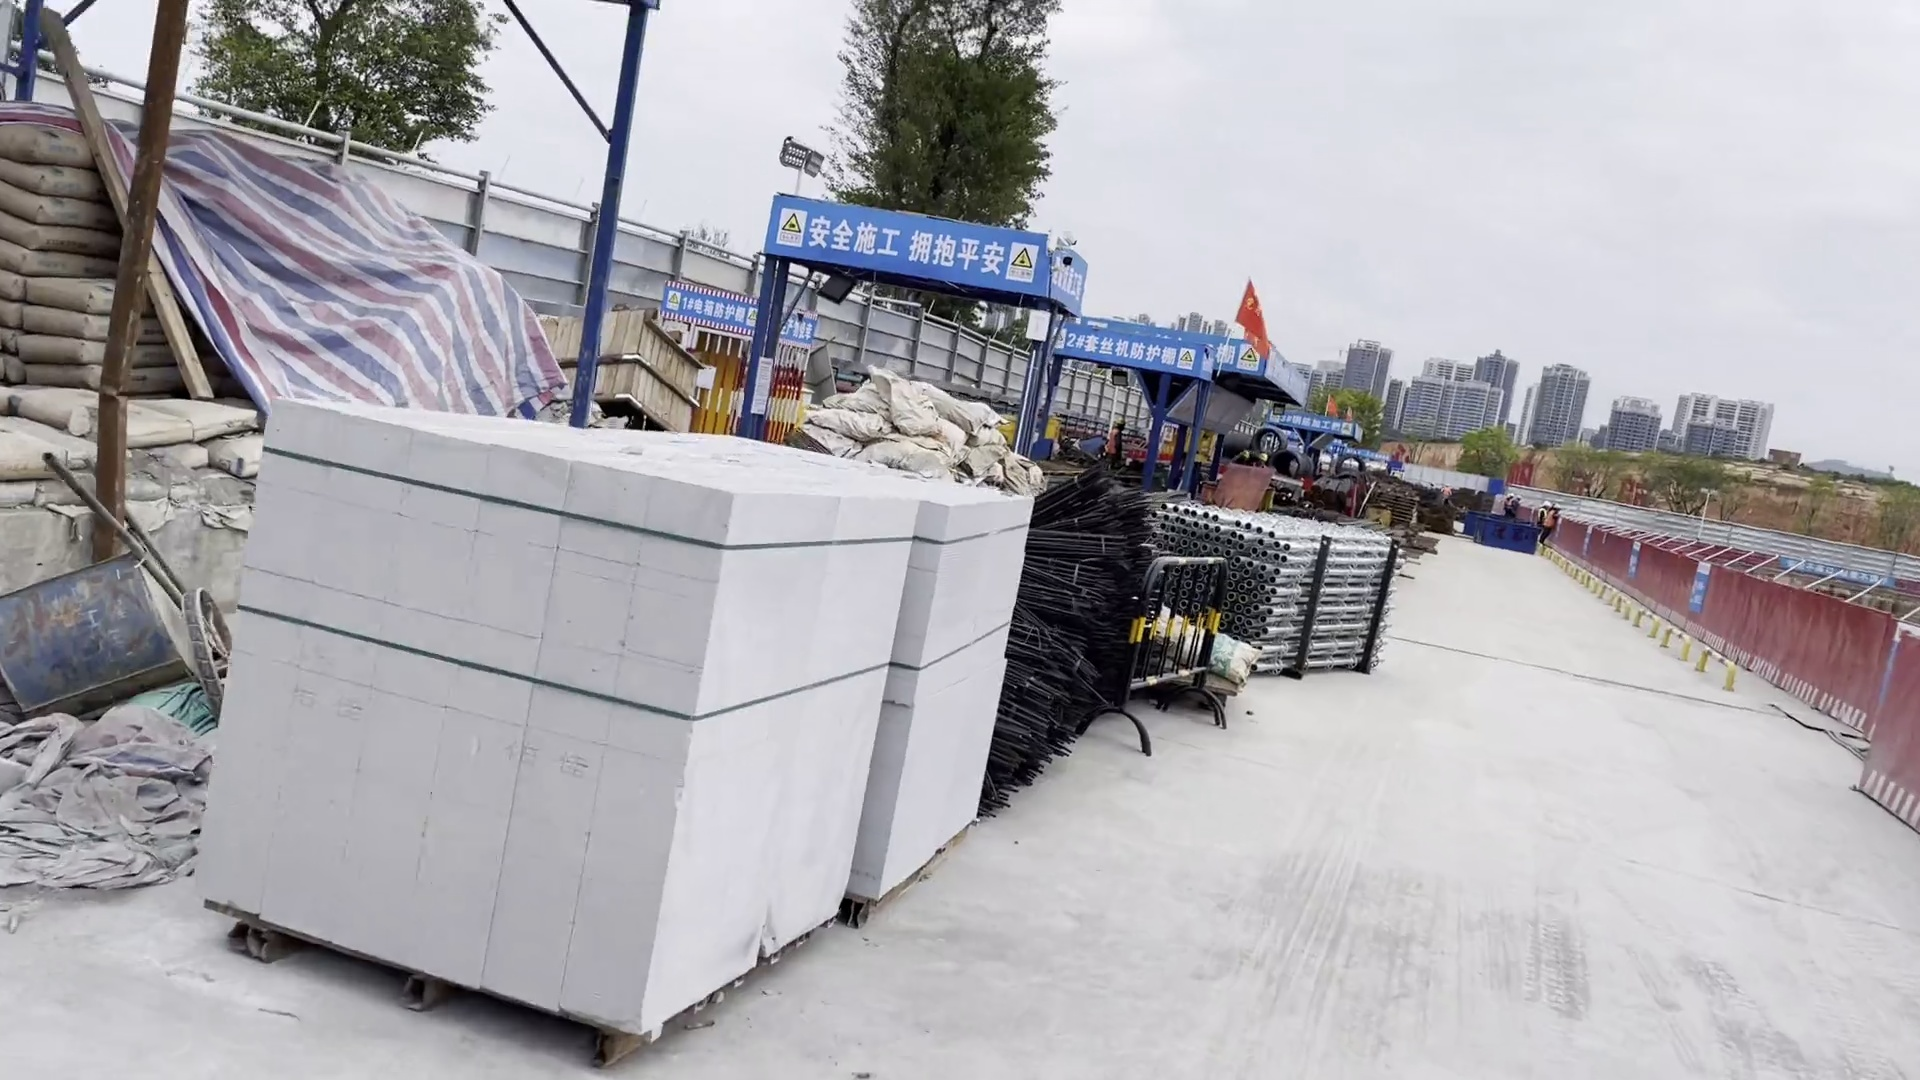brick: (170, 390, 1044, 1056)
fence: (1543, 502, 1920, 836)
helmet: (1542, 501, 1550, 509), (1552, 503, 1560, 510), (1515, 493, 1521, 500), (1445, 484, 1451, 490), (1509, 494, 1514, 500)
hopper: (1467, 508, 1541, 558)
person: (1541, 504, 1561, 543), (1502, 495, 1522, 517), (1537, 501, 1552, 524), (1439, 484, 1452, 503)
scaffold: (1152, 500, 1400, 690)
slogan: (803, 209, 1003, 280)
vest: (1547, 511, 1559, 527), (1540, 509, 1547, 526), (1443, 490, 1451, 499)
